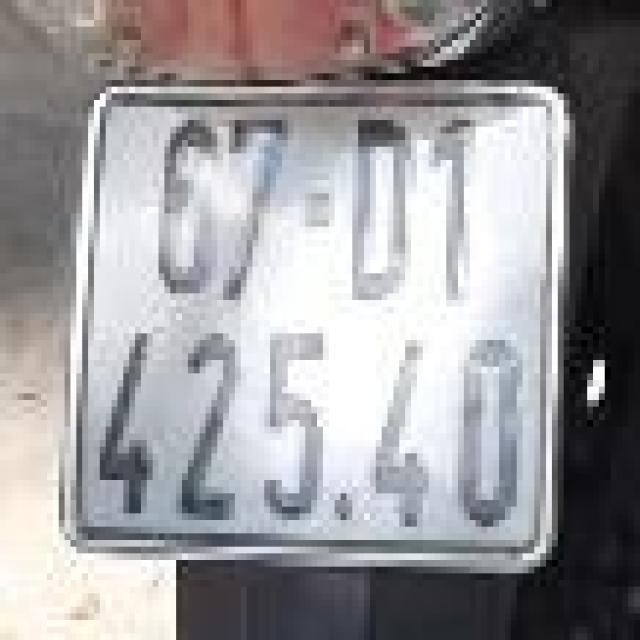0: (446, 327, 528, 540)
1: (426, 117, 478, 310)
2: (173, 317, 244, 530)
4: (364, 330, 440, 537), (91, 320, 161, 520)
5: (252, 306, 334, 526)
6: (159, 110, 217, 303)
7: (220, 110, 291, 303)
D: (343, 110, 414, 317)
